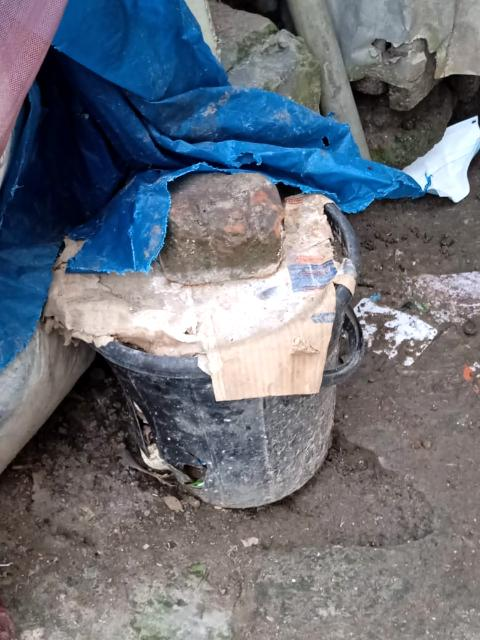hardplastic: (88, 194, 345, 518)
